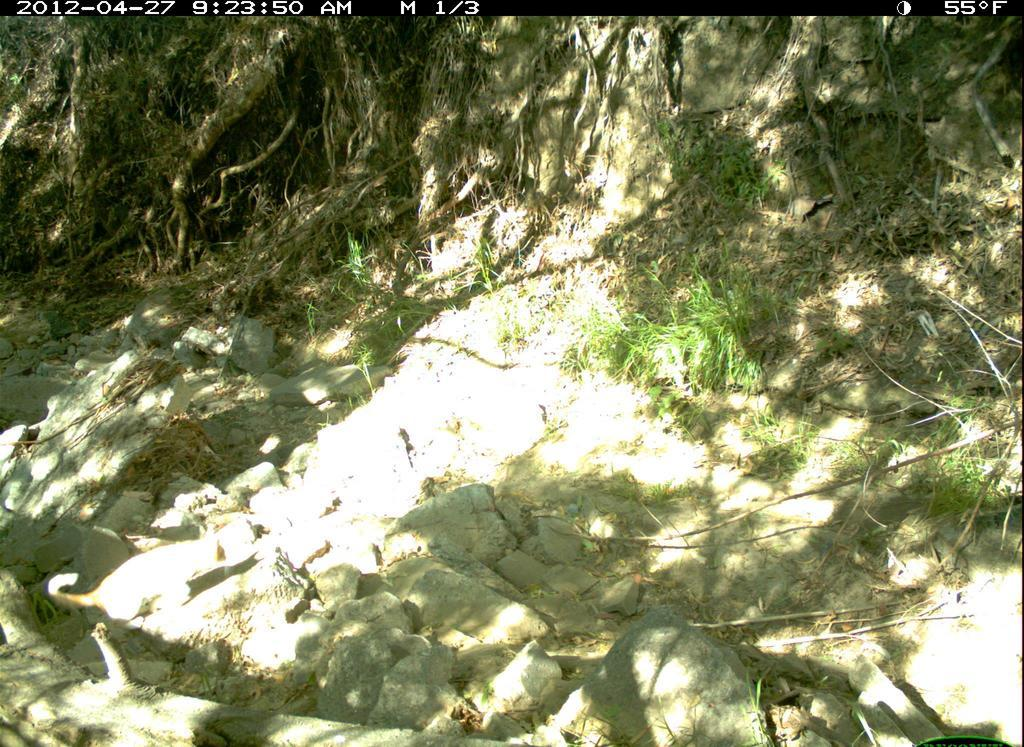cat: (39, 530, 231, 639)
